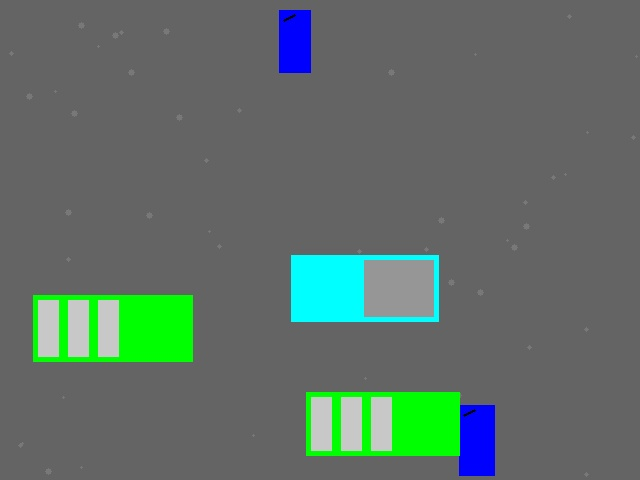bus: (33, 295, 192, 361), (306, 392, 459, 455)
motorcycle: (459, 405, 494, 475), (279, 10, 310, 72)
truck: (291, 255, 438, 321)
